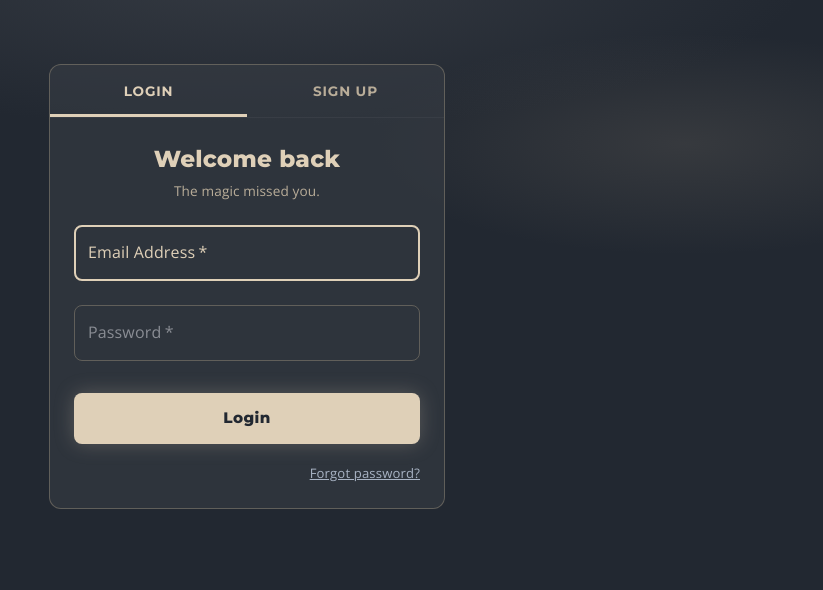
Test: LoginPage Component › should display error message on failed login
Step 1. Type "test@example.com" into the field labelled "Email Address *" → [247, 253], box [74, 225, 420, 281]
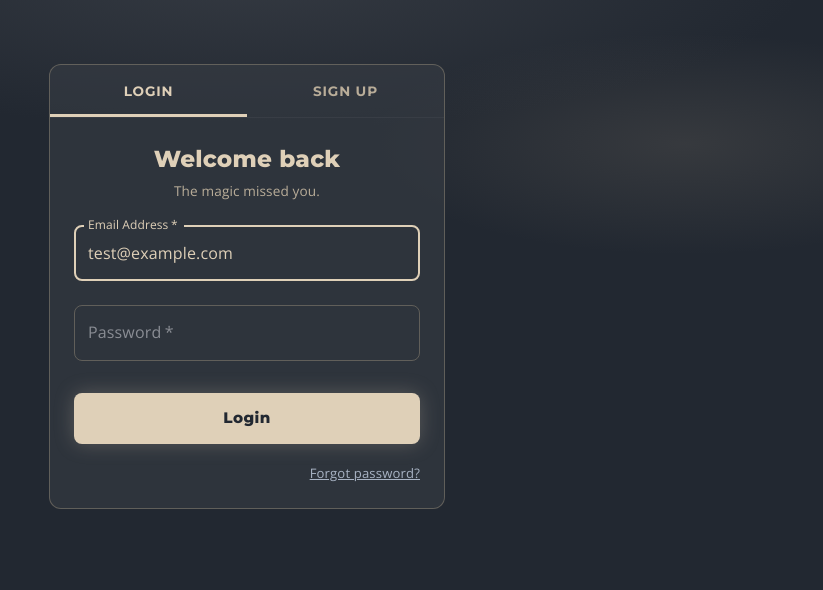
Step 2. Type "wrongpassword" into the password field labelled "Password *" → [247, 333], box [74, 305, 420, 361]
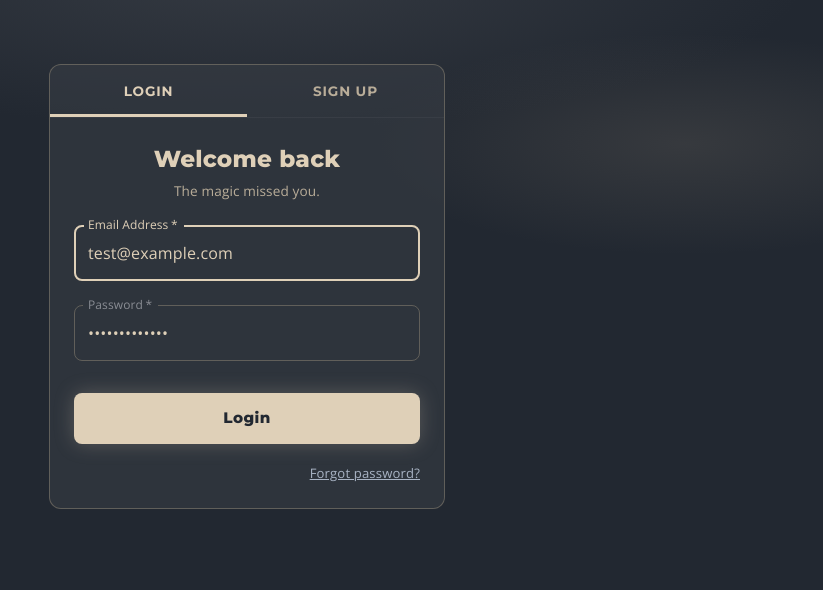
Step 3. Click the button "Login" → [247, 418], box [74, 393, 420, 444]
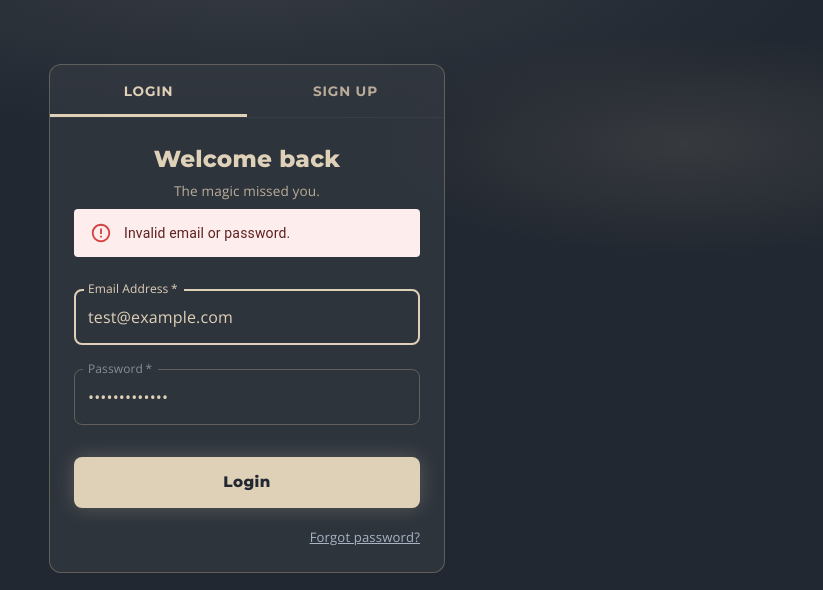
Expected: the text "Invalid email or password." is shown, [124, 225, 290, 241]
